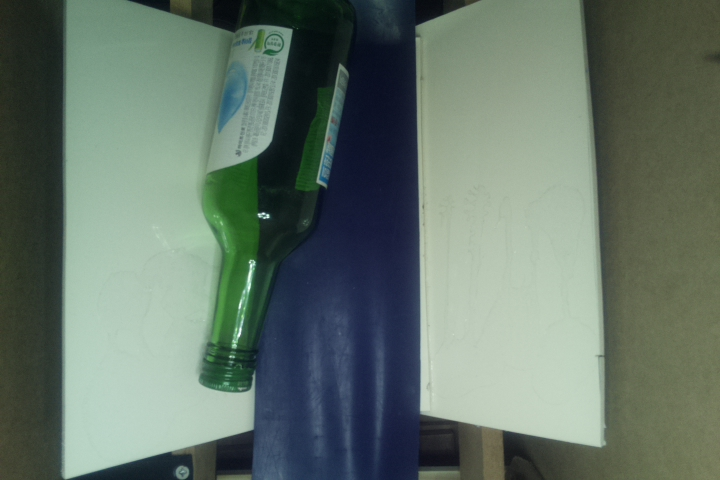soju: (196, 1, 360, 396)
